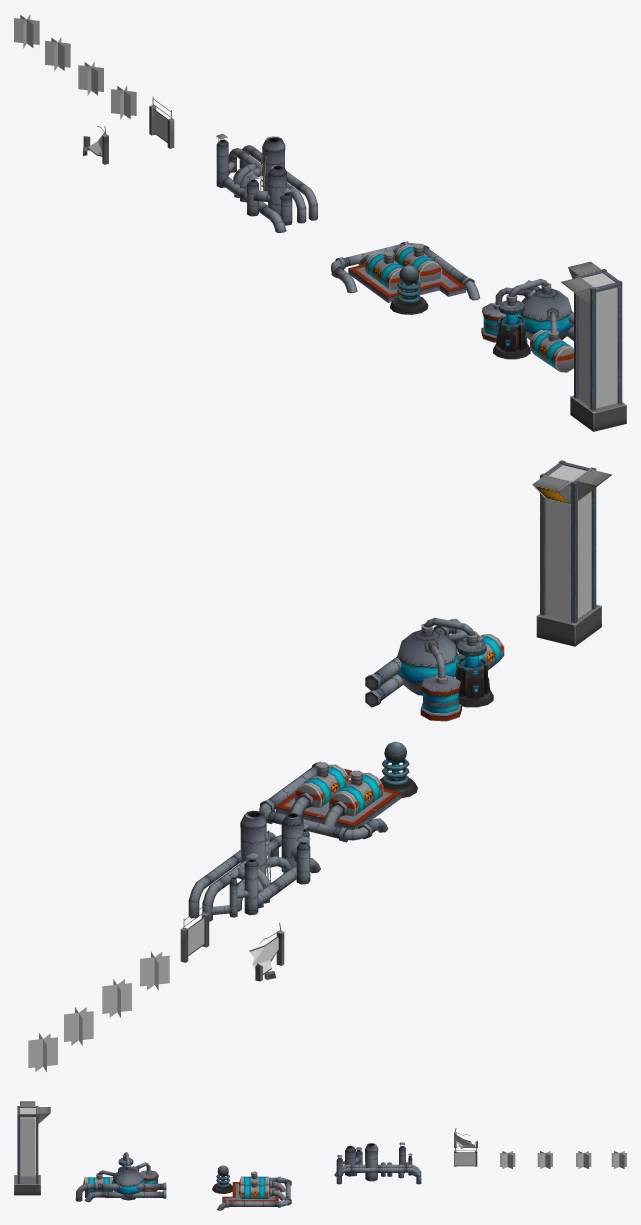
The model's file is wujian.fbx.
3 views of the same model, one above another, from view 1: azimuth 30°, elevation 25°; view 2: azimuth 150°, elevation 25°; view 3: azimuth 270°, elevation 25° (orthographic). The views are drawn at different scales.
Parts seen in each view (by area): view 1: E, C, A, D, B, F, I, H, G; view 2: E, D, C, A, K, B, F, G, H, I; view 3: E, D, A, C, B, F, I, H, G, K, x1.
Part boxes in pixels (x1,y1,x2,y2): E: (561, 261, 626, 431); C: (216, 133, 317, 232); A: (331, 241, 479, 314); D: (481, 278, 573, 372); B: (149, 97, 174, 148); F: (111, 85, 136, 119); I: (14, 14, 39, 48); H: (45, 37, 70, 71); G: (78, 61, 103, 95); E: (532, 460, 611, 646); D: (365, 617, 504, 721); C: (188, 810, 320, 921); A: (259, 741, 417, 842); K: (249, 922, 284, 981); B: (180, 903, 209, 962); F: (140, 951, 169, 990); G: (102, 979, 131, 1017); H: (64, 1007, 93, 1045); I: (28, 1033, 57, 1071); E: (14, 1101, 50, 1195); D: (75, 1152, 166, 1202); A: (212, 1165, 291, 1210); C: (334, 1142, 421, 1184); B: (454, 1146, 477, 1166); F: (500, 1151, 515, 1168); I: (611, 1151, 626, 1168); H: (576, 1151, 591, 1168); G: (537, 1151, 552, 1168); K: (454, 1128, 477, 1148); x1: (112, 1180, 145, 1194).
Bounding box in the file's own units: 18.18 × 13.84 × 87.56.
